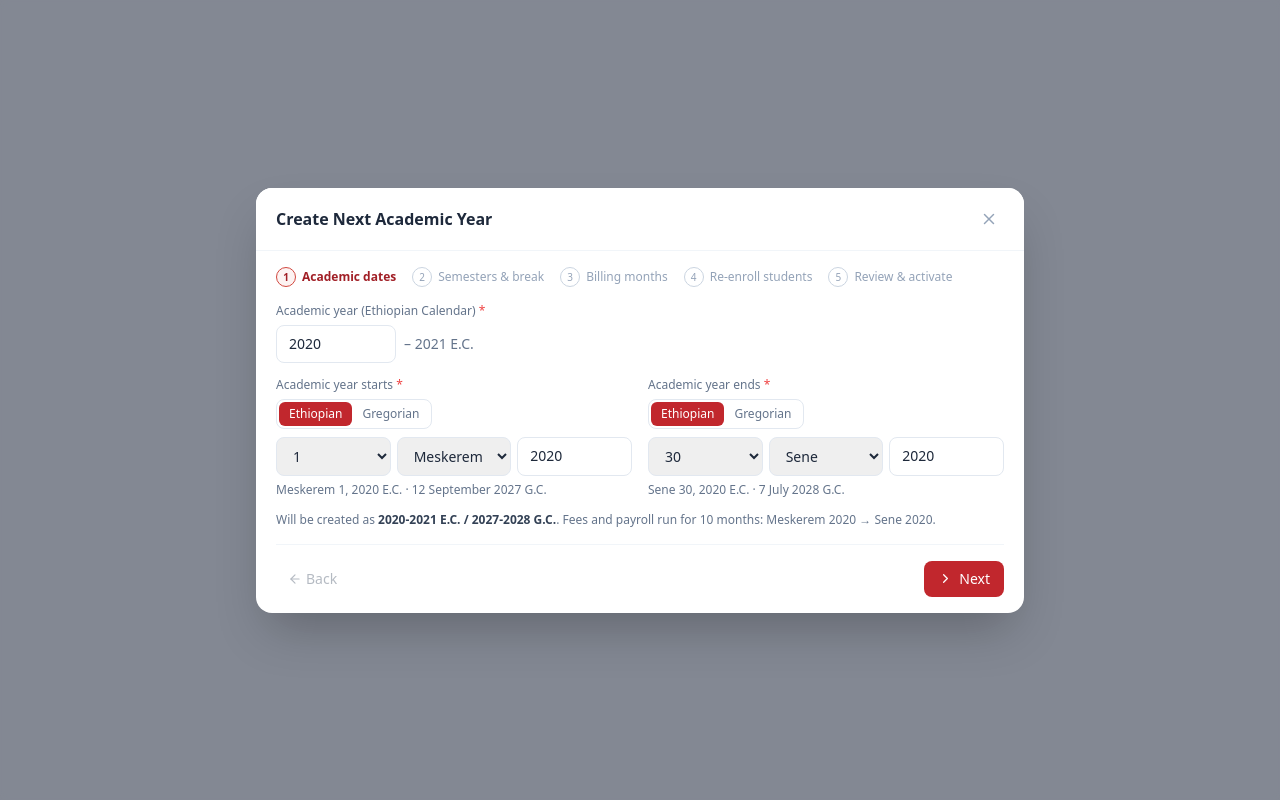
Test: Create Next Academic Year wizard › changing the E.C. year re-derives the dates and the months
Replace the text in the number field showing "2020" with "2021": (336, 344) left=276, top=324, right=396, bottom=362
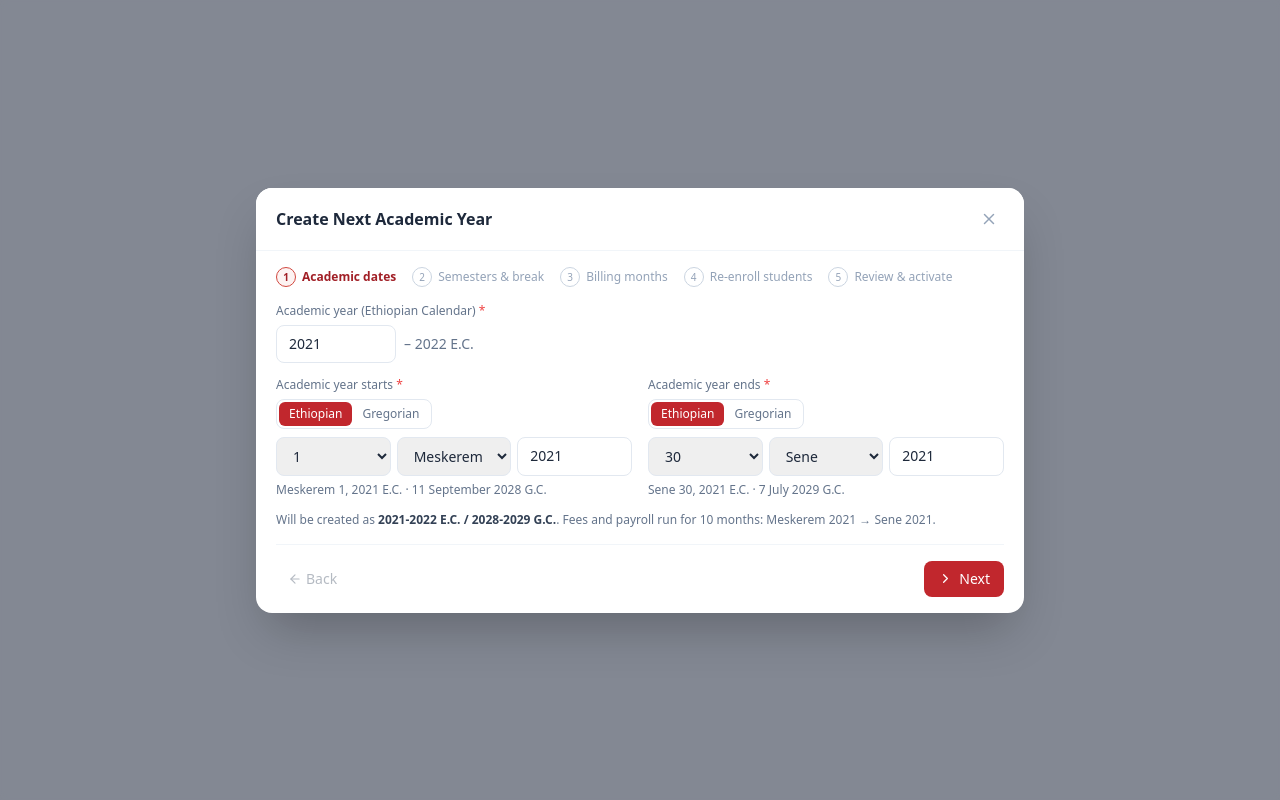
Check: the text "2021-2022 E.C. / 2028-2029 G.C." is shown, box left=378, top=510, right=556, bottom=528
Check: the text "Meskerem 2021 → Sene 2021" is shown, box left=276, top=512, right=1004, bottom=528
